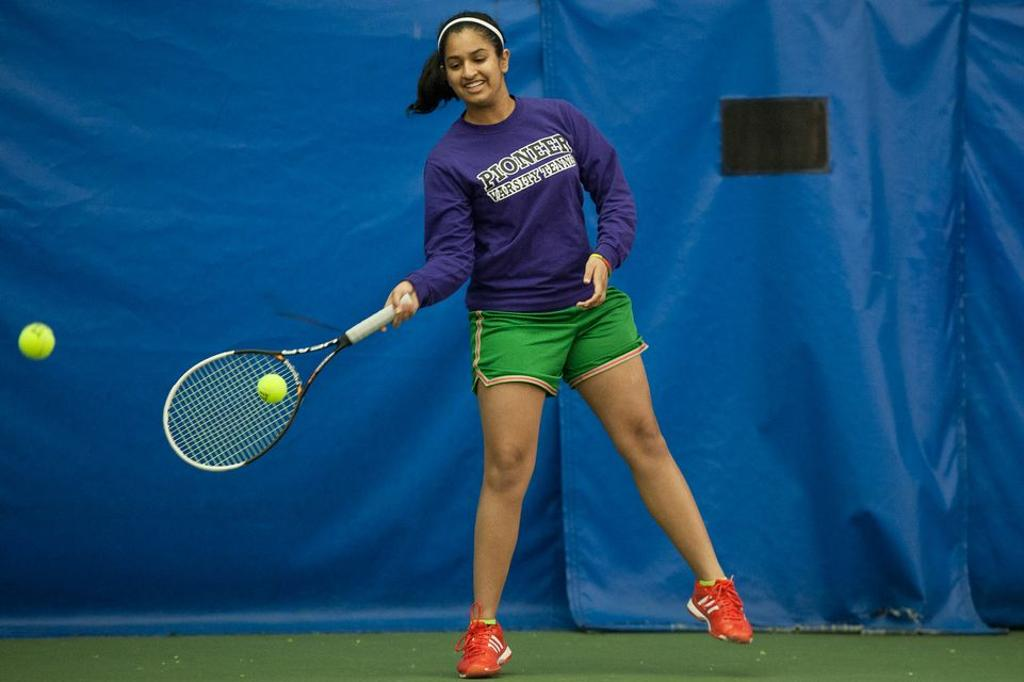face: (442, 30, 498, 104)
